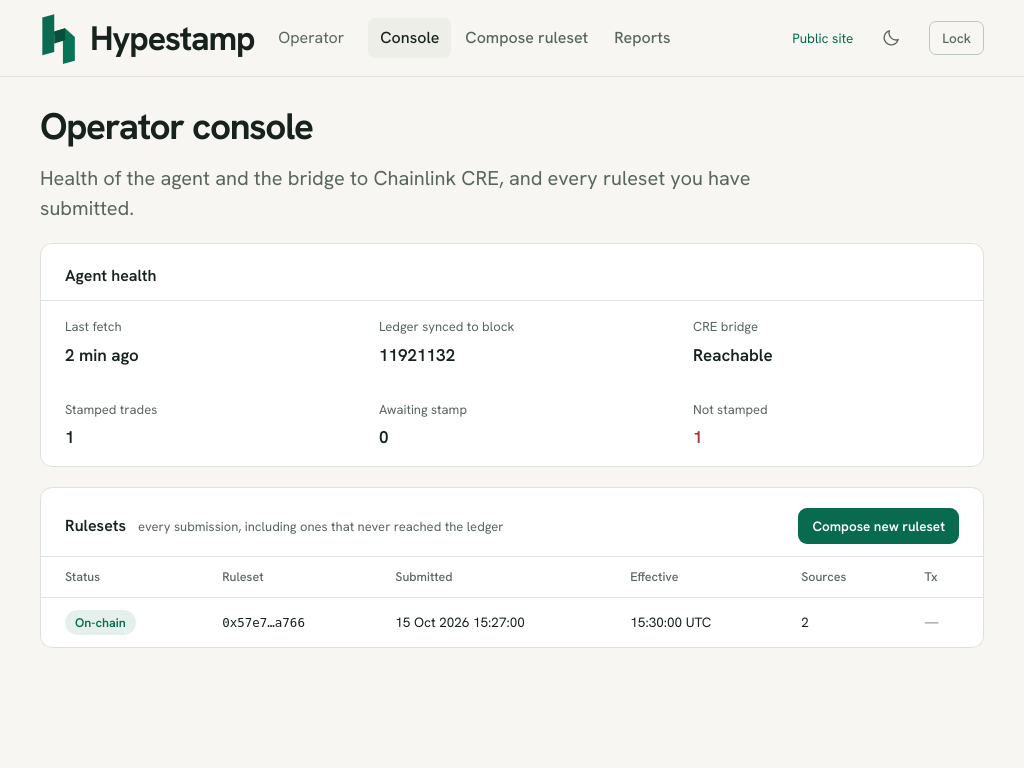
Test case: Admin sign-in › forgets the token on lock
Click the button "Lock". click: (957, 38)
box: [929,20,984,55]
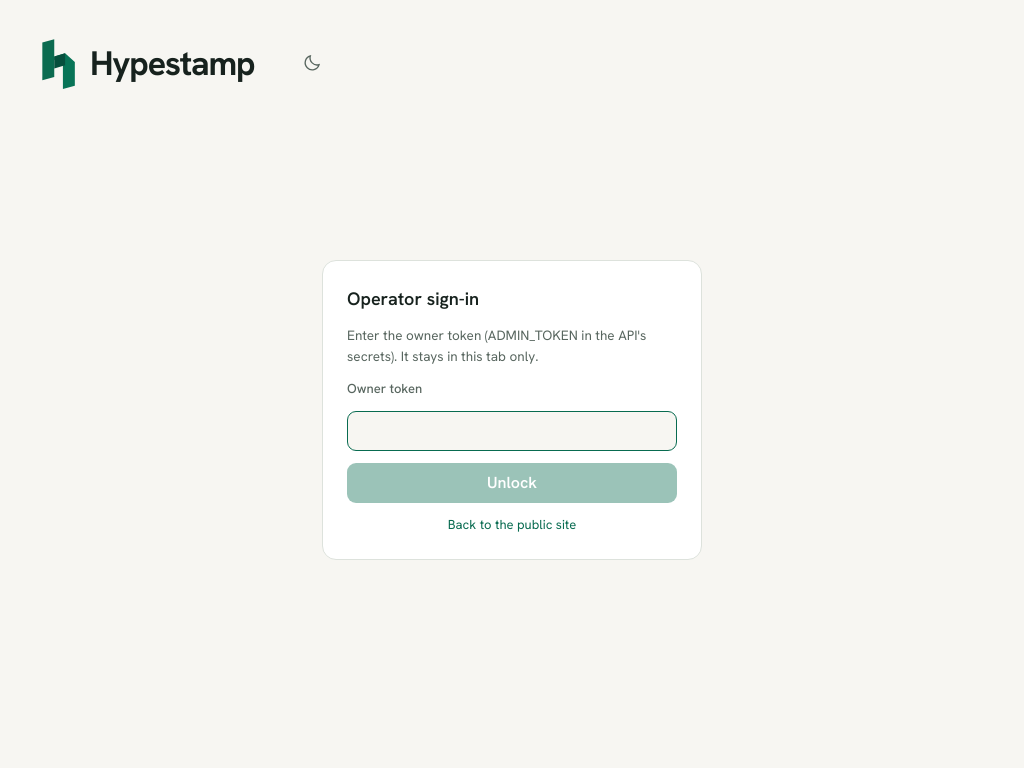
Now the password field labelled "Owner token" is shown, box [347,411,677,451]
